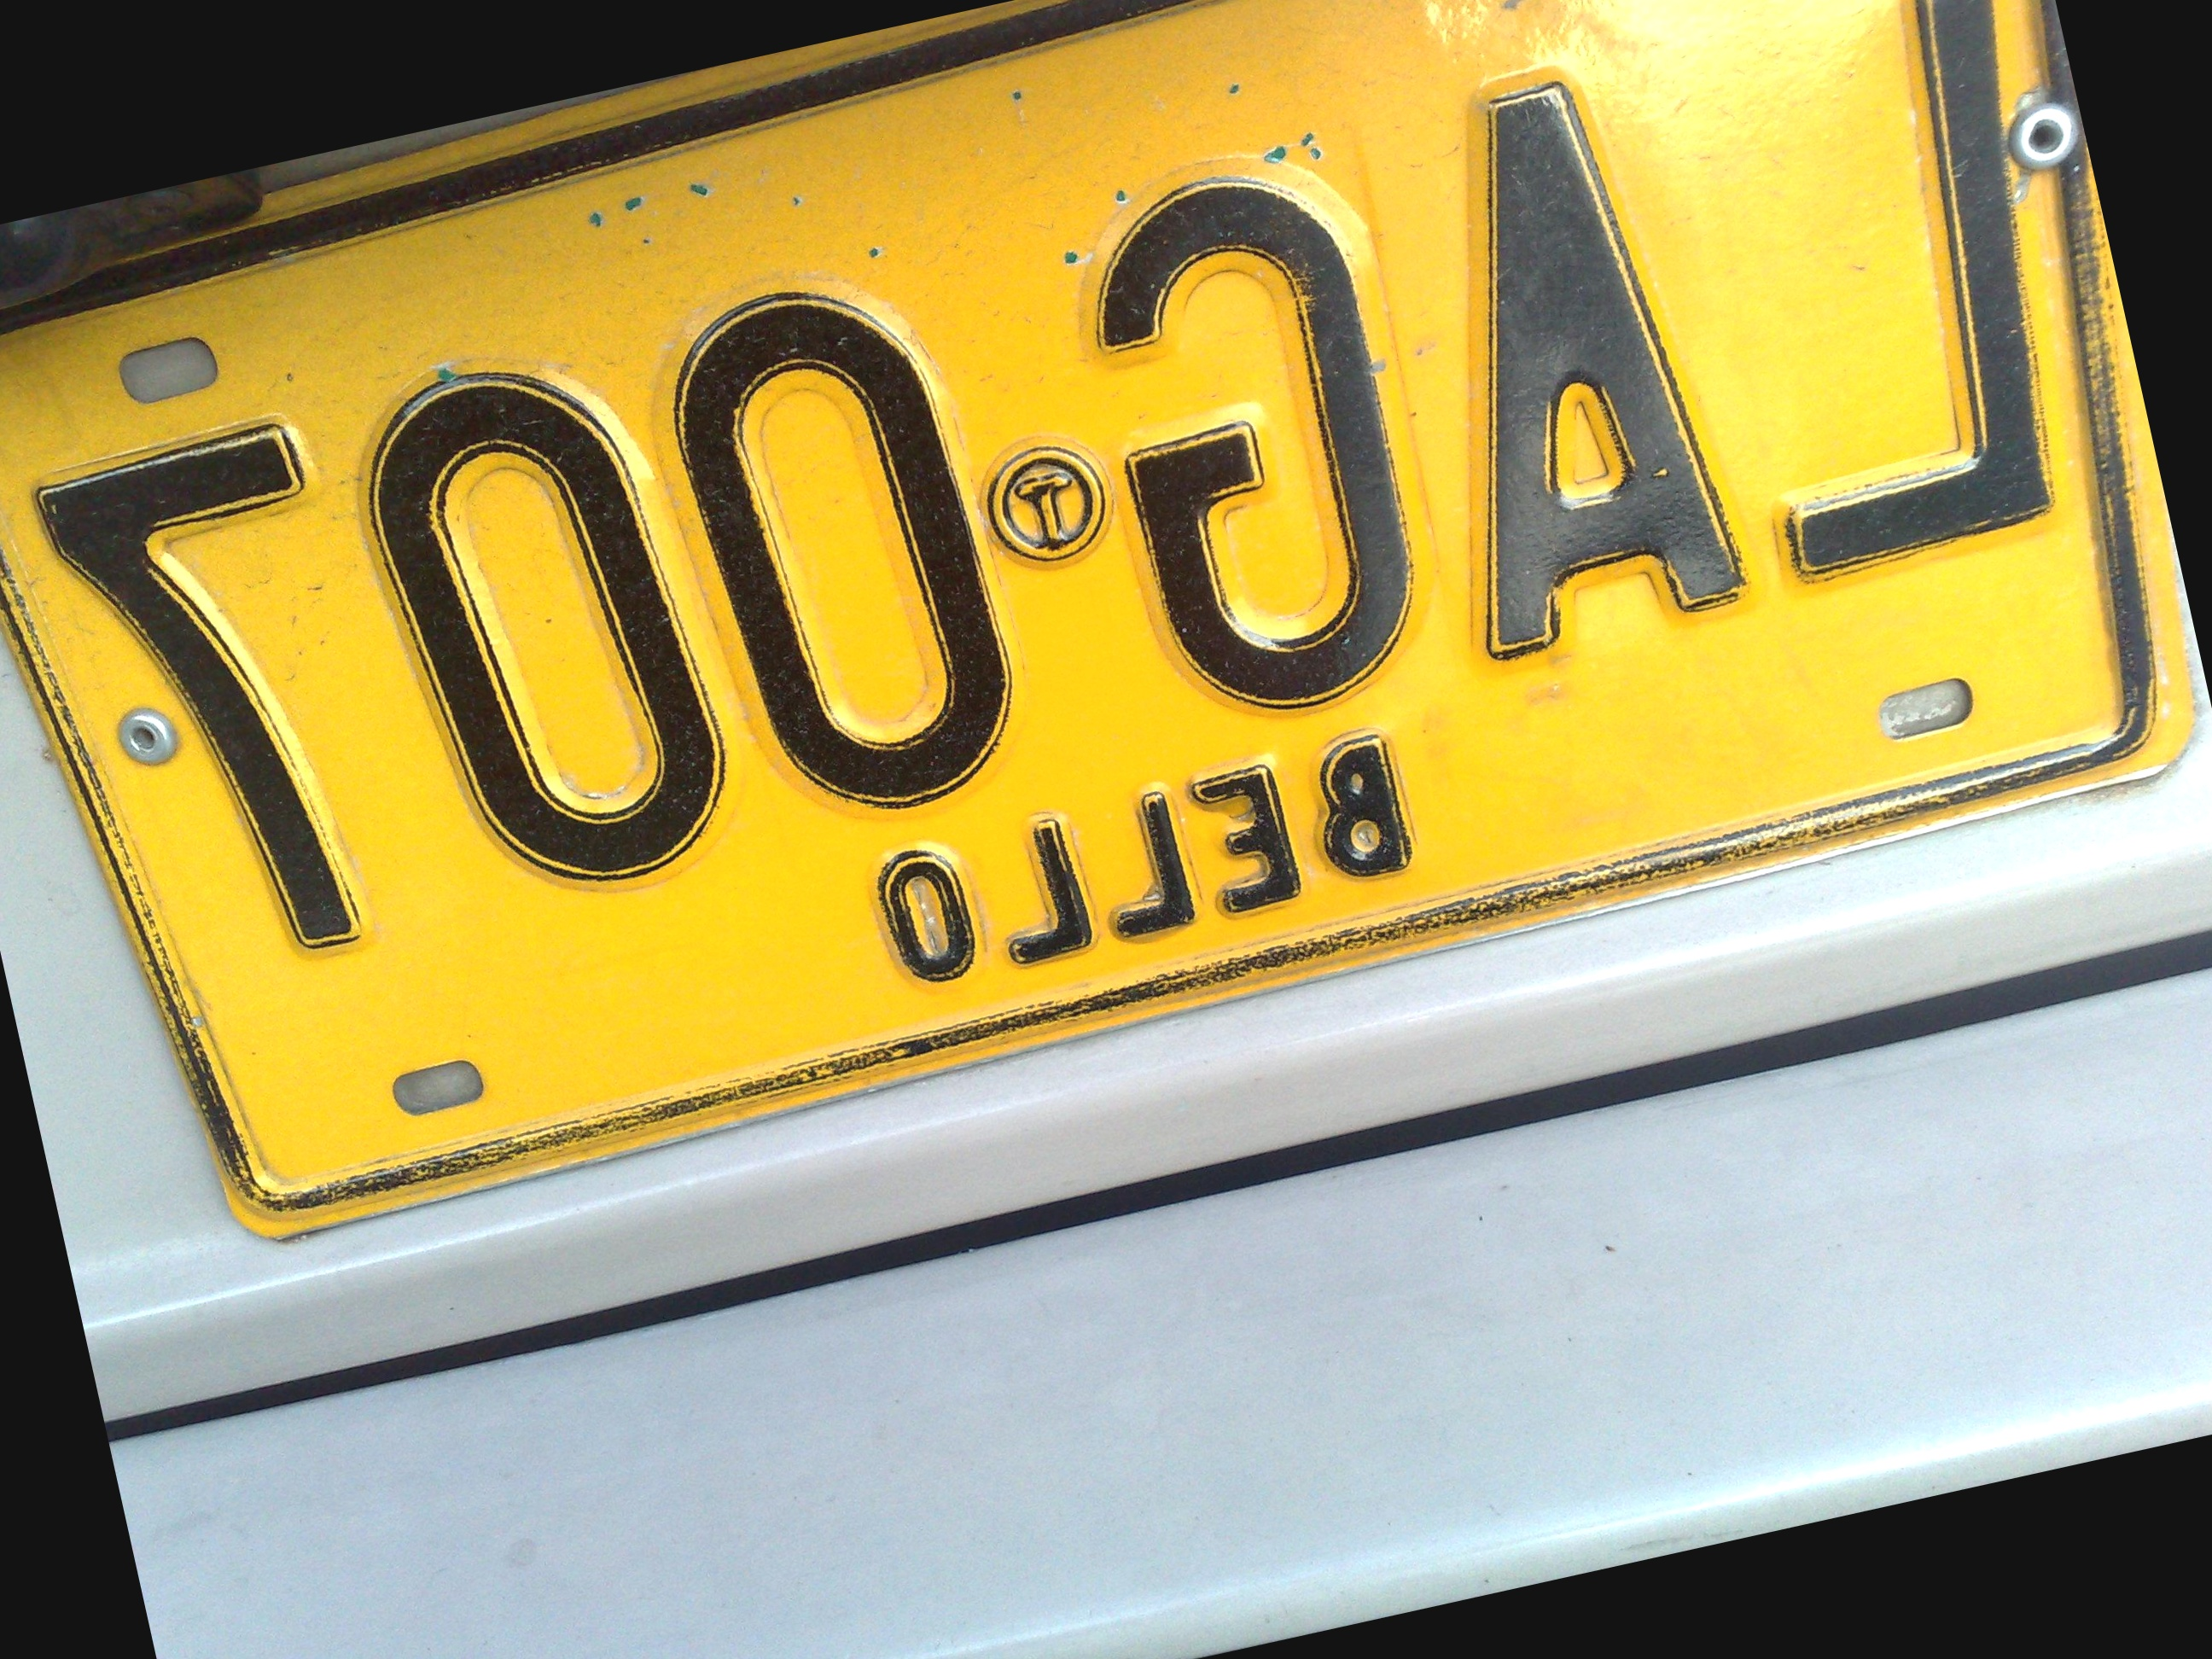placas: (0, 0, 2212, 1290)
